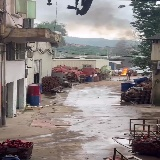fire: (120, 68, 127, 75)
